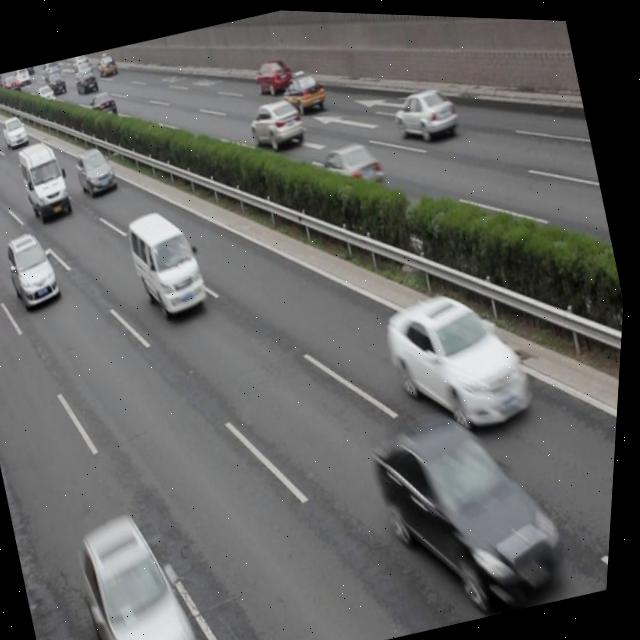car: (365, 385, 581, 627), (378, 269, 546, 446), (70, 498, 222, 640), (3, 226, 68, 312), (388, 76, 463, 148), (315, 131, 389, 201), (244, 91, 310, 154), (71, 142, 122, 199), (277, 63, 330, 116), (249, 50, 297, 97)
truck: (123, 199, 217, 322), (15, 136, 79, 224)
